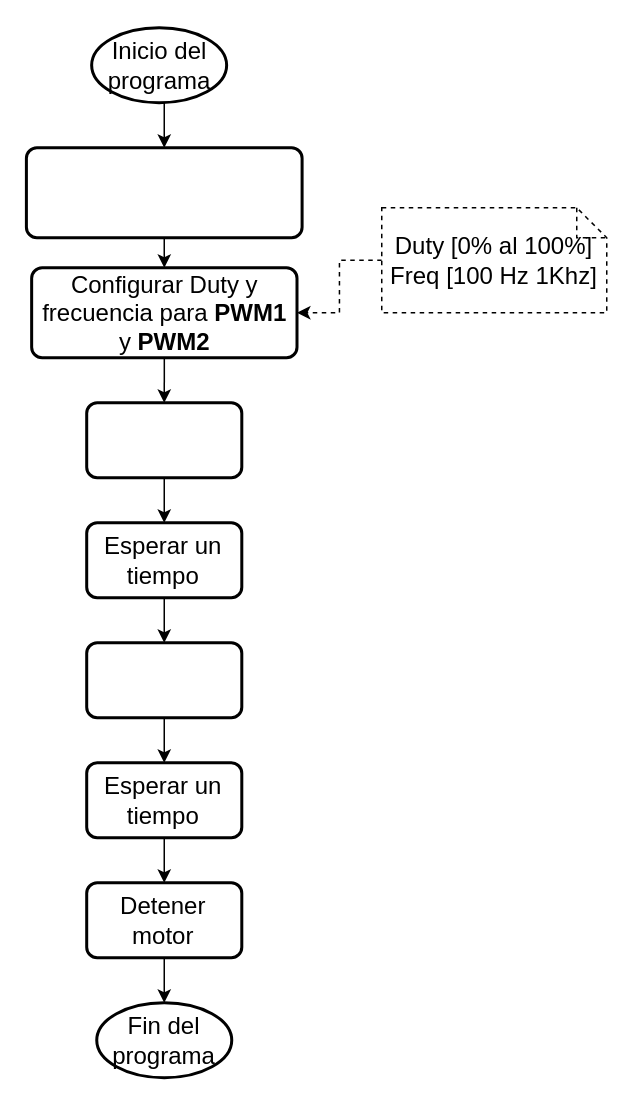
Image size: 635x1104. Some labels were removed from this diagram. Each missing label, with the centre of its shape:
"Asignación de pines para la señal de PWM1 y PWM2" belongs at point 163,192.
"Cambio de giro" belongs at point 163,679.
"Girar el motor cia un sentido" belongs at point 163,439.
